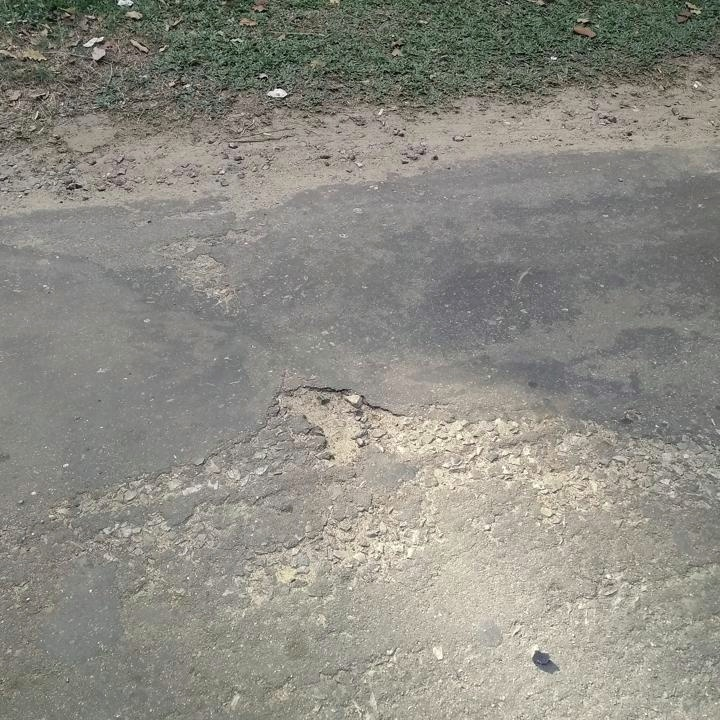pothole: (269, 382, 372, 470)
